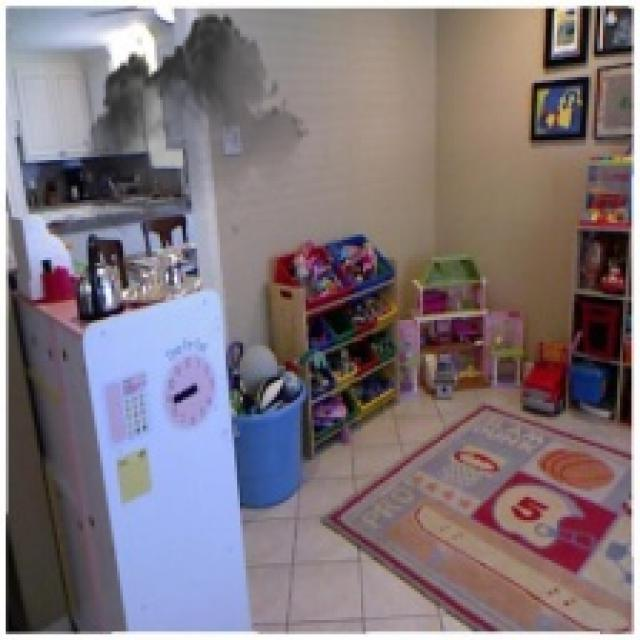smoke: (83, 3, 311, 248)
